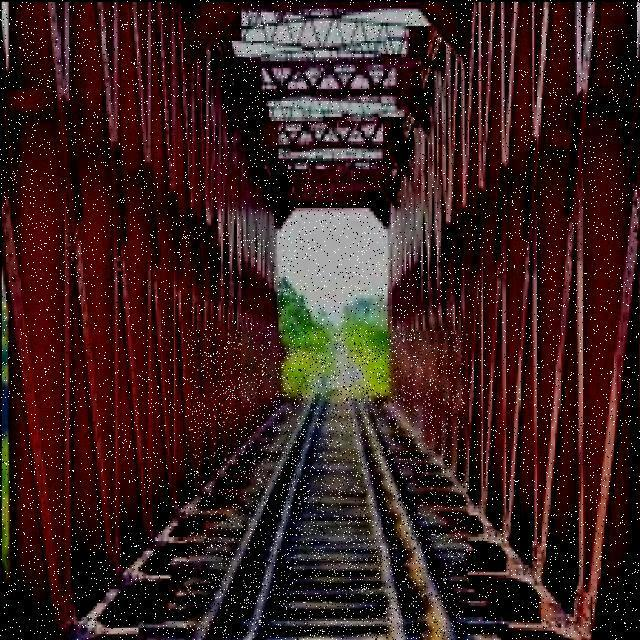rail: (186, 330, 465, 638)
